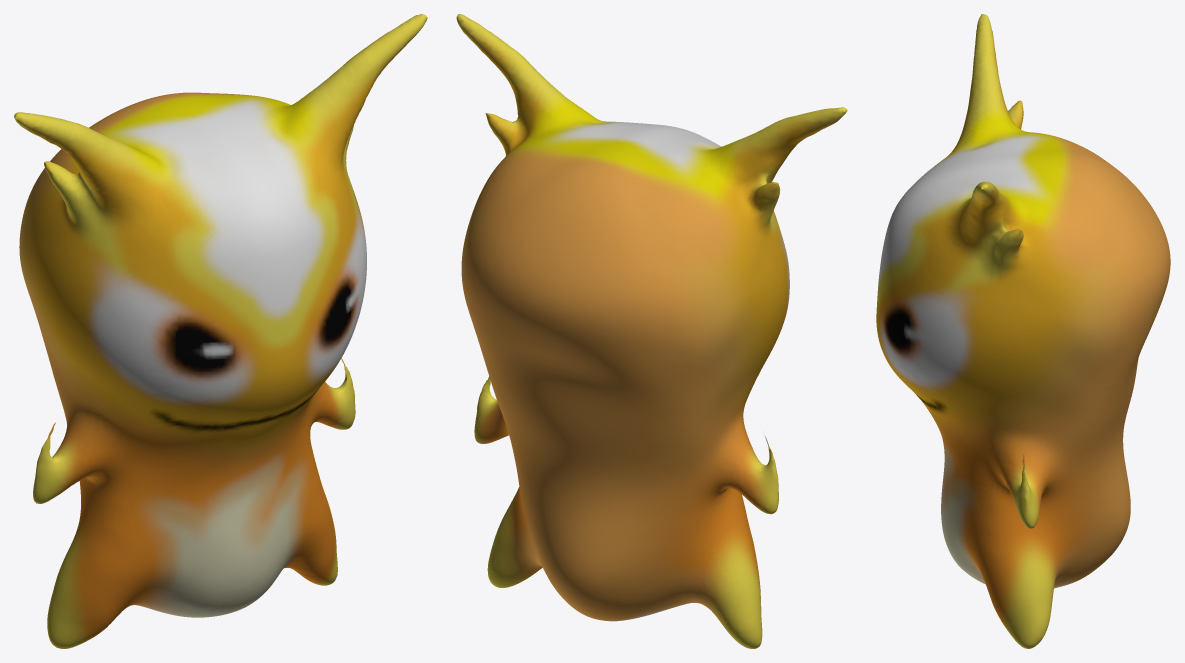
The model's file is burpy.glb.
3 views of the same model, side by side, from view 1: azimuth 30°, elevation 25°; view 2: azimuth 150°, elevation 25°; view 3: azimuth 270°, elevation 25° (orthographic). The views are drawn at different scales.
Parts seen in each view (by area): view 1: Object_2; view 2: Object_2; view 3: Object_2.
Boxes of the visible parts, x1,y1,x2,y2 form: Object_2: (14, 14, 427, 648); Object_2: (456, 14, 847, 648); Object_2: (876, 14, 1170, 648).
Size of the model in its own units: 2.85 by 3.76 by 2.04.
